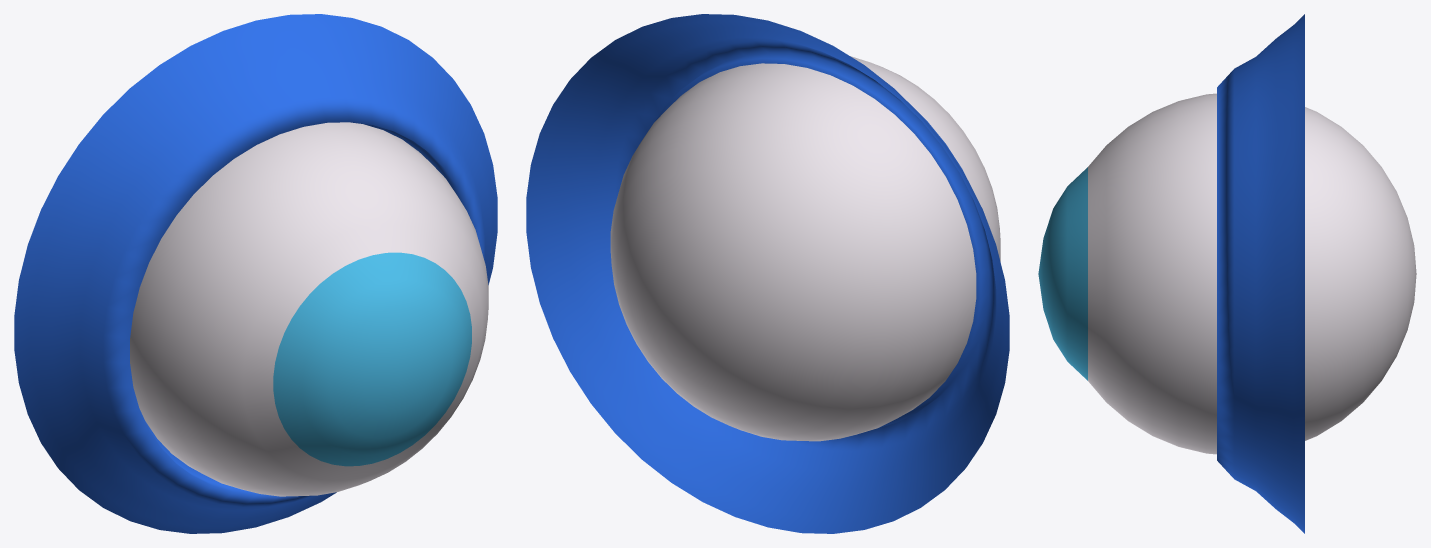
Rendered from Eyeball.fbx.
The picture shows the model from 3 angles, left to right: view 1: azimuth 30°, elevation 25°; view 2: azimuth 150°, elevation 25°; view 3: azimuth 270°, elevation 25°; orthographic projection. The views are drawn at different scales.
Visible parts, largest first — view 1: Eyeball, Skin; view 2: Eyeball, Skin; view 3: Eyeball, Skin.
Boxes of the visible parts, box(x1,y1,x2,y2) form: Eyeball: box(130, 122, 488, 496); Skin: box(14, 14, 497, 533); Eyeball: box(610, 56, 1000, 441); Skin: box(526, 14, 1009, 533); Eyeball: box(1038, 93, 1416, 454); Skin: box(1217, 14, 1304, 533).
Size of the model in its own units: 1.04 by 1.04 by 0.7576.
